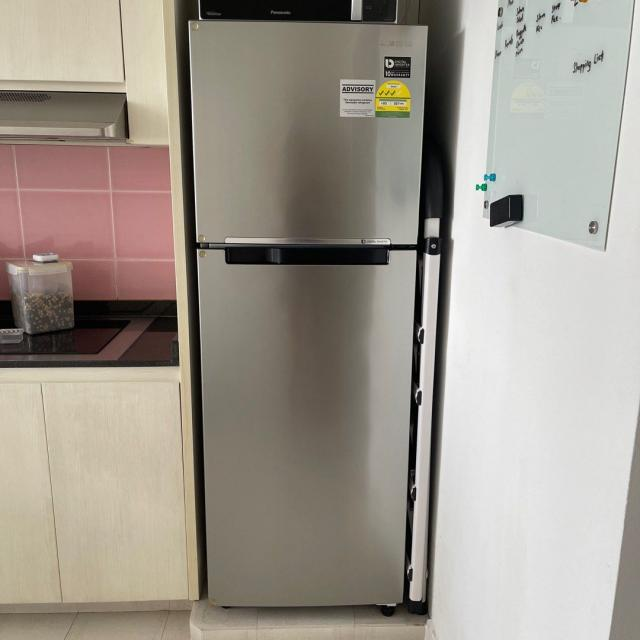refrigerator: (189, 19, 430, 609)
